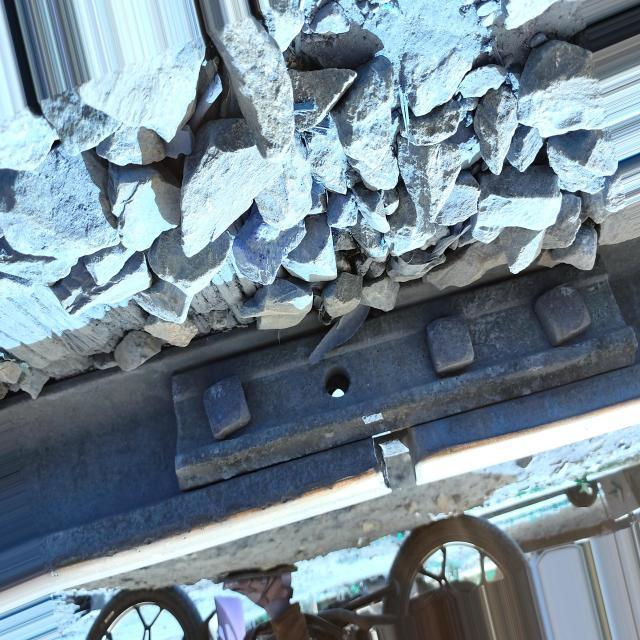Defective Joint: (172, 269, 636, 491)
